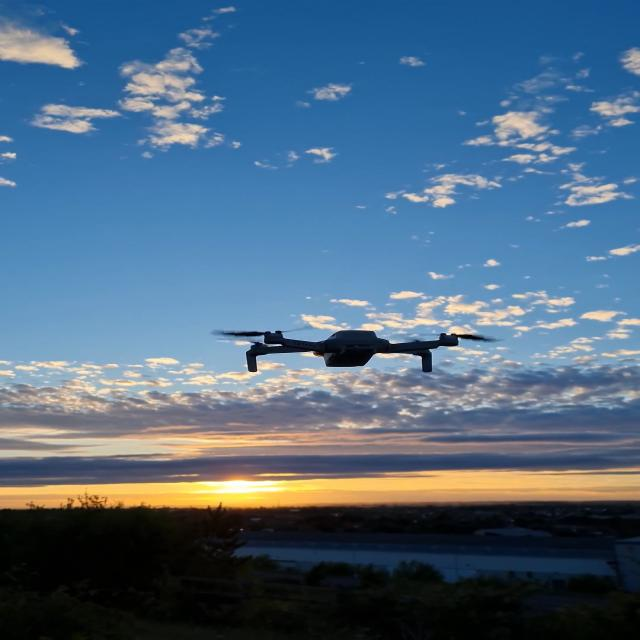Drone: (212, 300, 480, 395)
